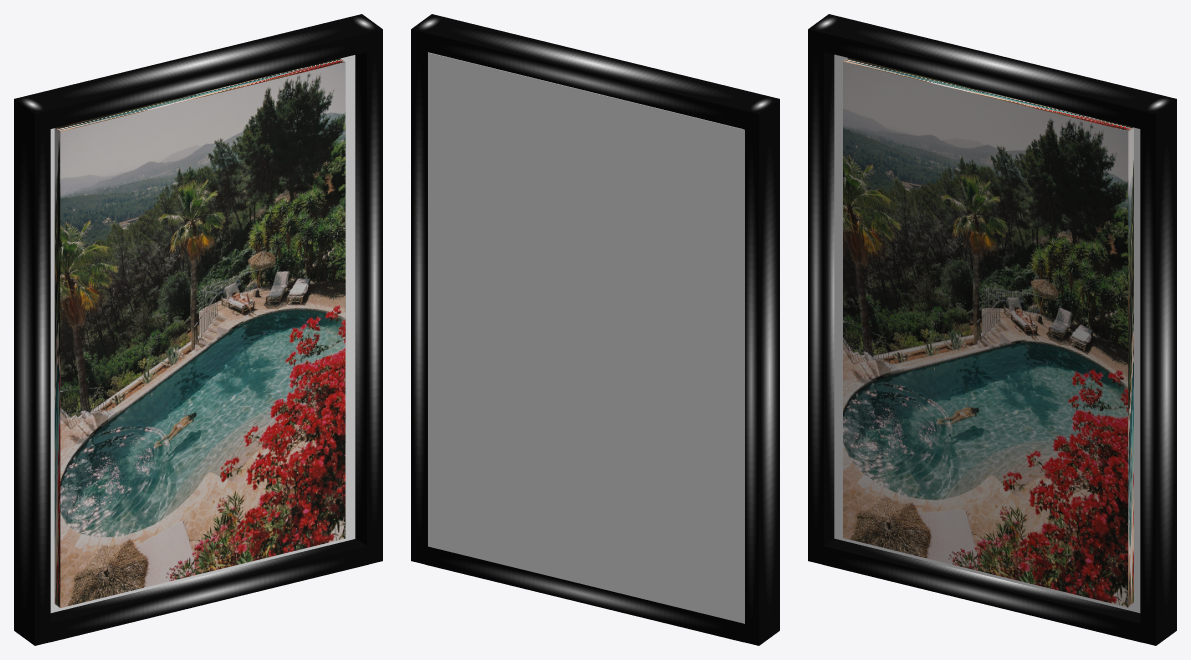
The model's file is frame-image2.glb.
The picture shows the model from 3 angles, left to right: view 1: azimuth 30°, elevation 25°; view 2: azimuth 150°, elevation 25°; view 3: azimuth 330°, elevation 25°; orthographic projection.
Parts seen in each view (by area): view 1: image, Cube (4), Cube (1), Cube (3), Cube (2), Cube; view 2: Cube, Cube (4), Cube (3), Cube (1), Cube (2); view 3: image, Cube (1), Cube (4), Cube (3), Cube (2), Cube.
Boxes of the visible parts, <box> form: image: <box>54,58,345,607</box>; Cube (4): <box>14,95,50,645</box>; Cube (1): <box>347,14,382,564</box>; Cube (3): <box>30,17,367,128</box>; Cube (2): <box>50,538,366,641</box>; Cube: <box>50,55,355,612</box>; Cube: <box>428,52,744,623</box>; Cube (4): <box>744,95,779,645</box>; Cube (3): <box>425,18,763,129</box>; Cube (1): <box>411,14,447,564</box>; Cube (2): <box>425,546,743,642</box>; image: <box>843,58,1133,607</box>; Cube (1): <box>1140,95,1176,645</box>; Cube (4): <box>808,14,843,564</box>; Cube (3): <box>824,18,1160,128</box>; Cube (2): <box>824,538,1141,642</box>; Cube: <box>834,54,1140,612</box>.
Bounding box in the file's own units: 193 × 282 × 20.01.
Materials: 3 (2 with a texture image).
